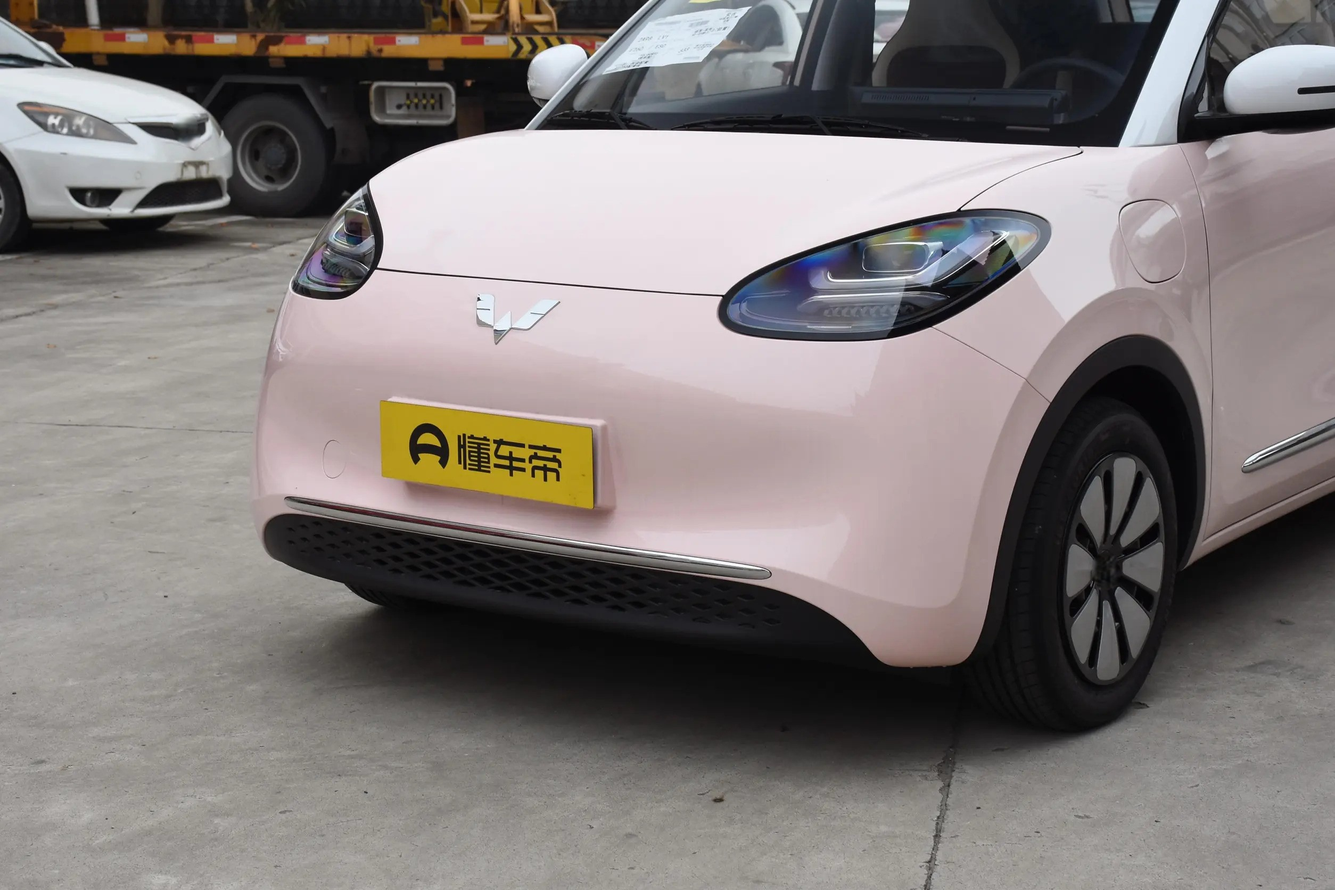SGMW: (476, 294, 560, 344)
